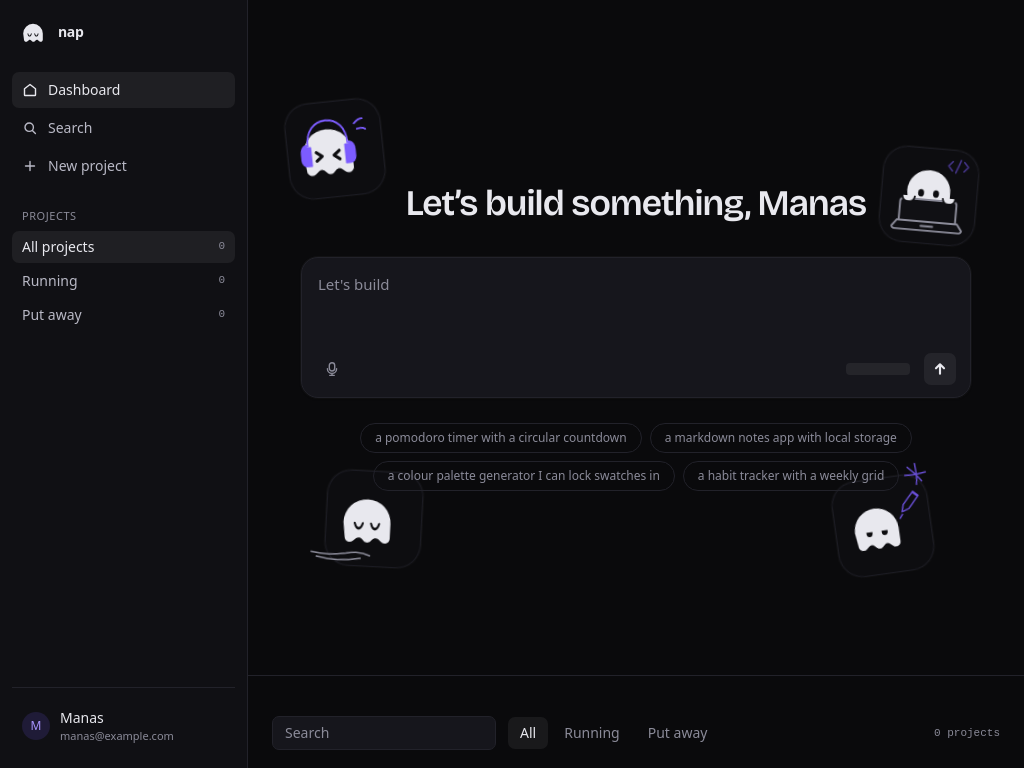
signing out › marks the rail busy from the press, not from the answer
This screenshot has width=1024, height=768.
Click the button "M Manas manas@example.com" at [124, 726], box [12,700,235,752]
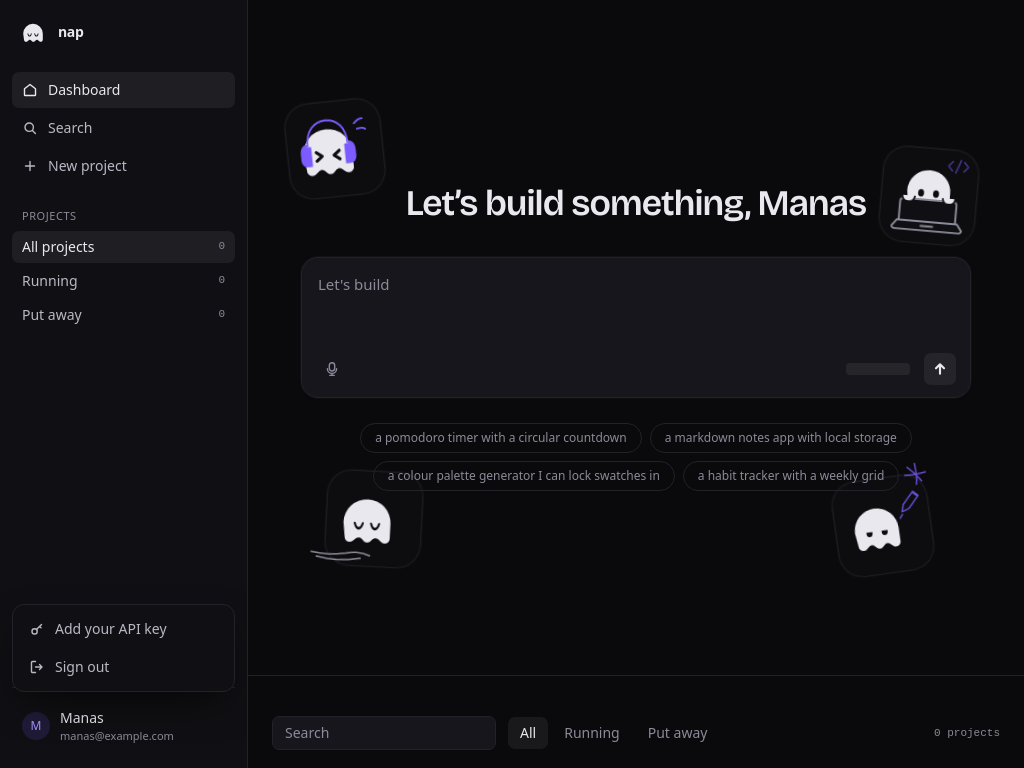
Click the menu item "Sign out" at [124, 666], box [19,648,228,684]
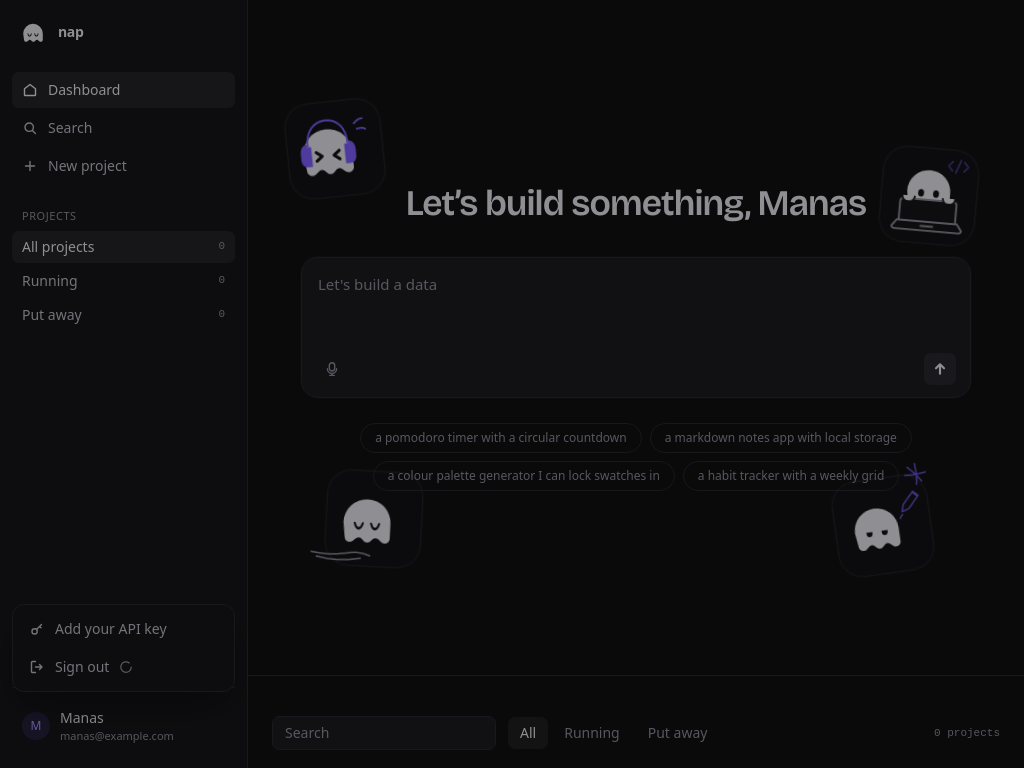
Expected: the menu item "Sign out" is disabled, [19,648,228,684]
